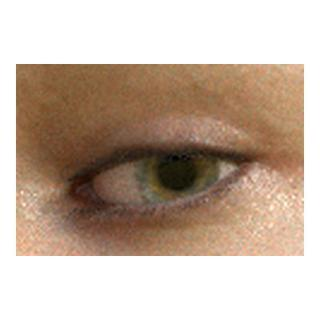pupil: (159, 154, 196, 190)
